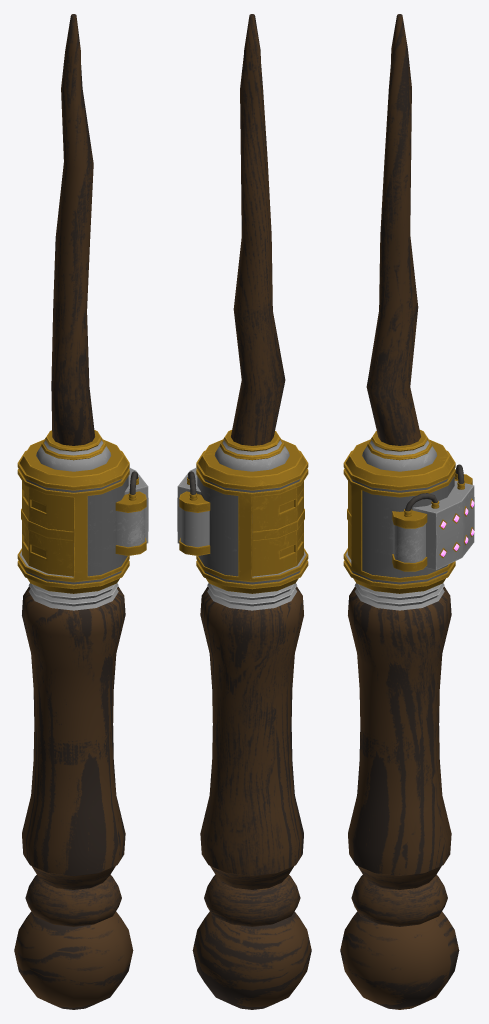
Rendered from magic wand.fbx.
3 renders of one model, left to right at view 1: azimuth 30°, elevation 25°; view 2: azimuth 150°, elevation 25°; view 3: azimuth 330°, elevation 25°, orthographic.
Parts seen in each view (by area): view 1: magic_wand, wand 6.Rcapsule, wand 6.Lcapsule; view 2: magic_wand, wand 6.Lcapsule, wand 6.Rcapsule; view 3: magic_wand.
Boxes of the visible parts, left/top/right/bottom form: magic_wand: left=14, top=14, right=148, bottom=1009; wand 6.Rcapsule: left=28, top=487, right=73, bottom=576; wand 6.Lcapsule: left=21, top=481, right=28, bottom=565; magic_wand: left=177, top=14, right=311, bottom=1009; wand 6.Lcapsule: left=252, top=487, right=297, bottom=576; wand 6.Rcapsule: left=297, top=481, right=304, bottom=565; magic_wand: left=340, top=14, right=474, bottom=1009.
Size of the model in its own units: 0.0365 by 0.2998 by 0.0344.
